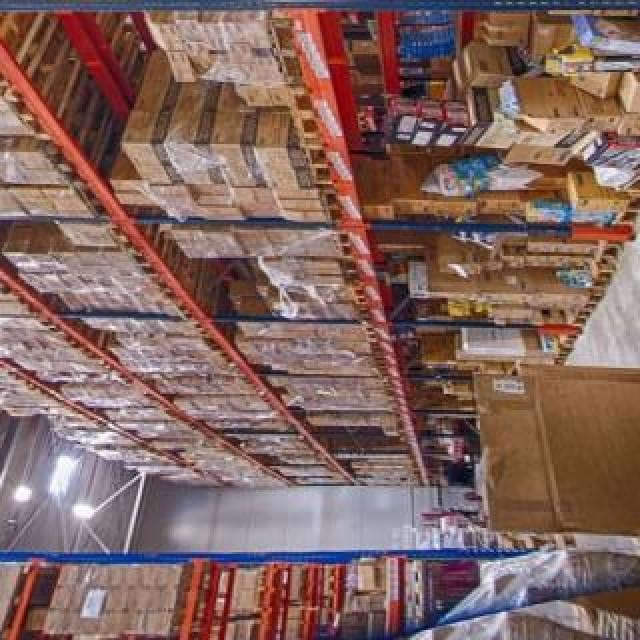fluorescent tube: (42, 451, 94, 502)
